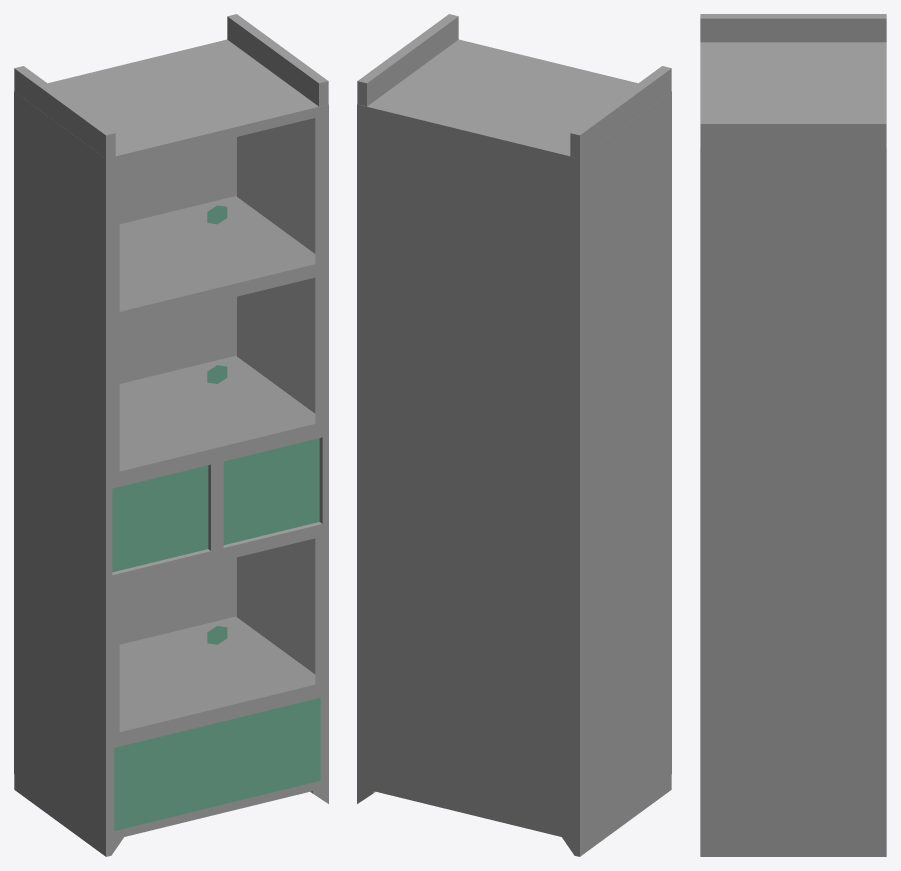
Rendered from durabox_cabinet.fbx.
3 views of the same model, side by side, from view 1: azimuth 30°, elevation 25°; view 2: azimuth 150°, elevation 25°; view 3: azimuth 270°, elevation 25° (orthographic).
Parts seen in each view (by area): view 1: pCube8; view 2: pCube8; view 3: pCube8.
Boxes of the visible parts, box(x1,y1,x2,y2) form: pCube8: box(14, 14, 328, 856); pCube8: box(357, 14, 671, 856); pCube8: box(700, 14, 886, 856).
Bounding box in the file's own units: 3.5 × 10.85 × 2.5.
